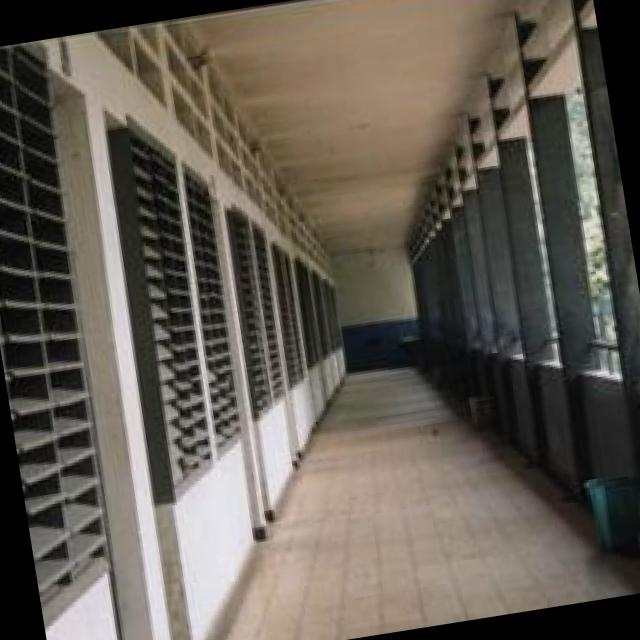2001: (525, 37, 618, 379), (496, 106, 563, 368), (473, 146, 526, 356)
2011: (414, 183, 494, 351)
ceiling beam: (188, 0, 518, 256)
floor -X: (211, 363, 640, 640)
trash compactor: (583, 473, 640, 559)
wall clock: (0, 24, 344, 640), (406, 0, 640, 544), (326, 245, 425, 372)
